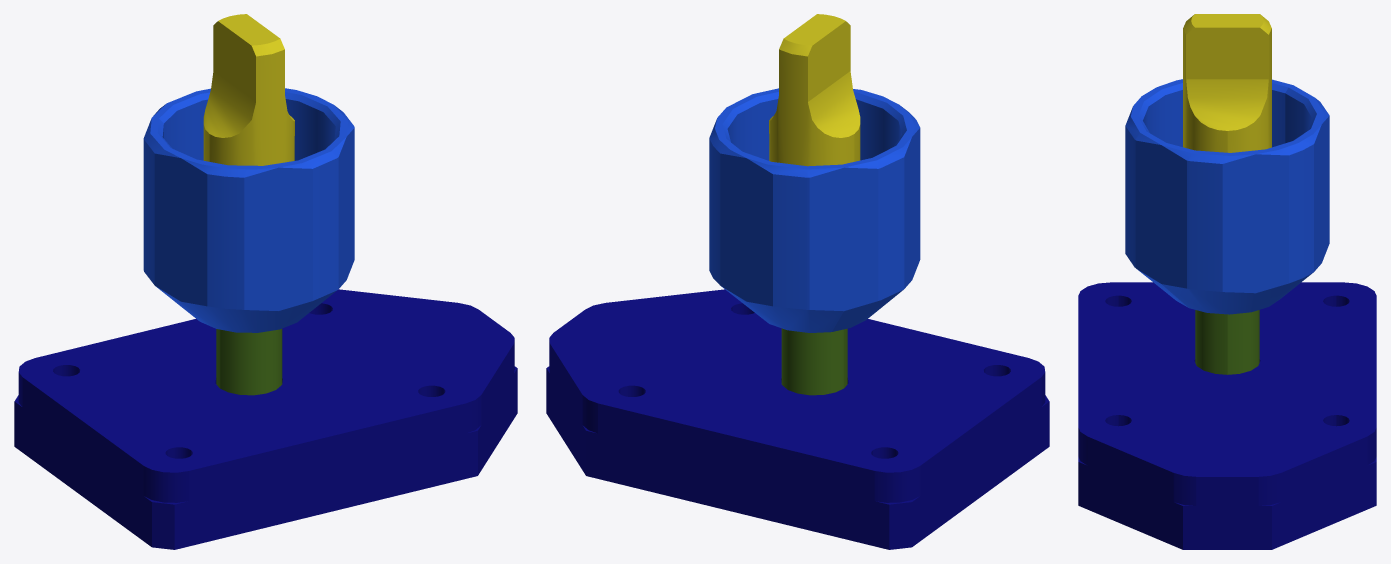
Rendered from bolt_gaika_fromSAT_v3.obj.
3 views of the same model, side by side, from view 1: azimuth 30°, elevation 25°; view 2: azimuth 150°, elevation 25°; view 3: azimuth 270°, elevation 25° (orthographic). The views are drawn at different scales.
Visible parts, largest first — view 1: 02, 07, 04, 01, 08, 03; view 2: 02, 07, 04, 01, 08, 03; view 3: 02, 07, 08, 04, 01, 03.
Boxes of the visible parts, x1,y1,x2,y2 form: 02: (18, 289, 514, 502); 07: (143, 88, 354, 332); 04: (14, 366, 517, 527); 01: (14, 391, 517, 549); 08: (203, 14, 294, 165); 03: (216, 329, 282, 395); 02: (549, 289, 1045, 502); 07: (709, 88, 920, 332); 04: (546, 366, 1049, 527); 01: (546, 391, 1049, 549); 08: (769, 14, 860, 166); 03: (781, 328, 847, 395); 02: (1078, 282, 1376, 505); 07: (1125, 79, 1329, 314); 08: (1183, 14, 1271, 152); 04: (1078, 457, 1376, 527); 01: (1078, 484, 1376, 549); 03: (1195, 310, 1259, 374).
Bounding box in the file's own units: 2.24 × 2.45 × 1.46.
